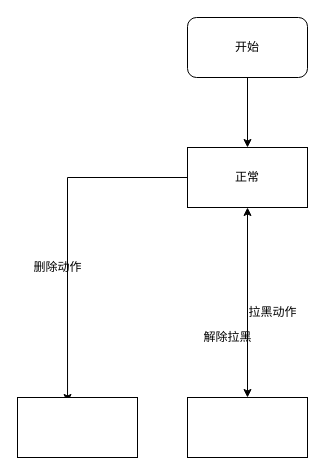
This 325x475 diagram has some shape labels left out. Each missing label, with the centre of its shape:
删除: pixel 77 427
拉黑: pixel 247 427
